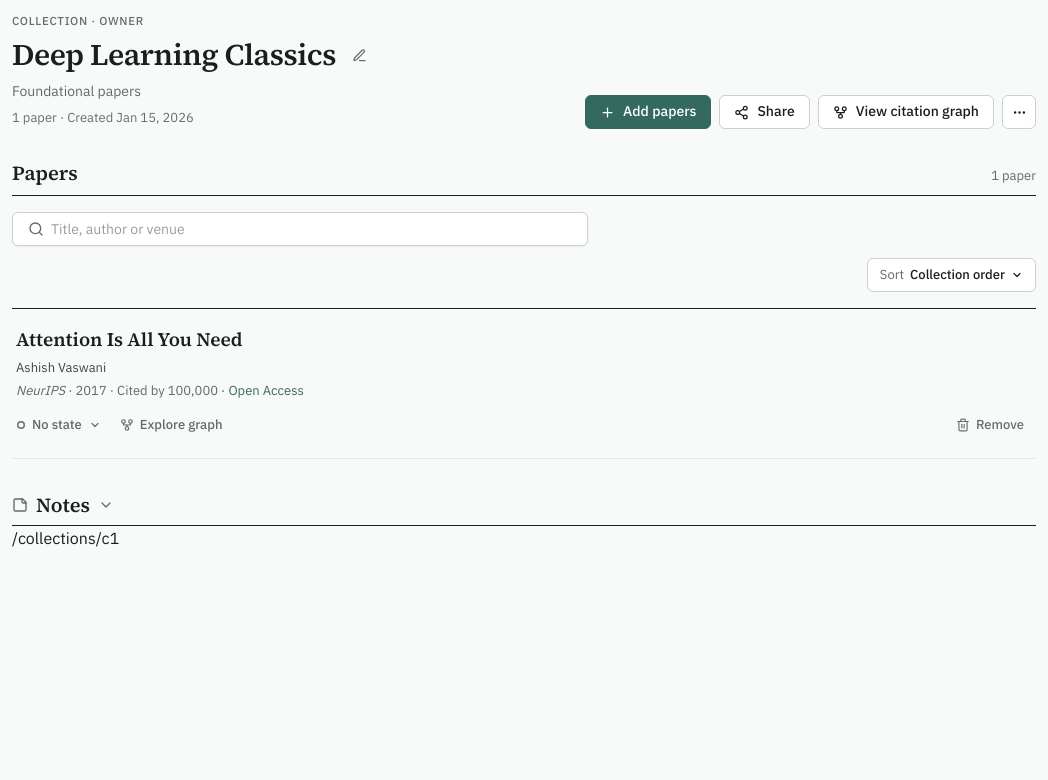
Scenario: CollectionDetailPage › lists the papers as rows under a section heading and folds notes behind a disclosure
The image size is (1048, 780).
Expected: the button "Attention Is All You Need" is shown, [16,327,1032,352]
Expected: the text "Collection" is shown, [12,13,88,28]
Click the button "Notes": (65, 508) [12,491,118,525]
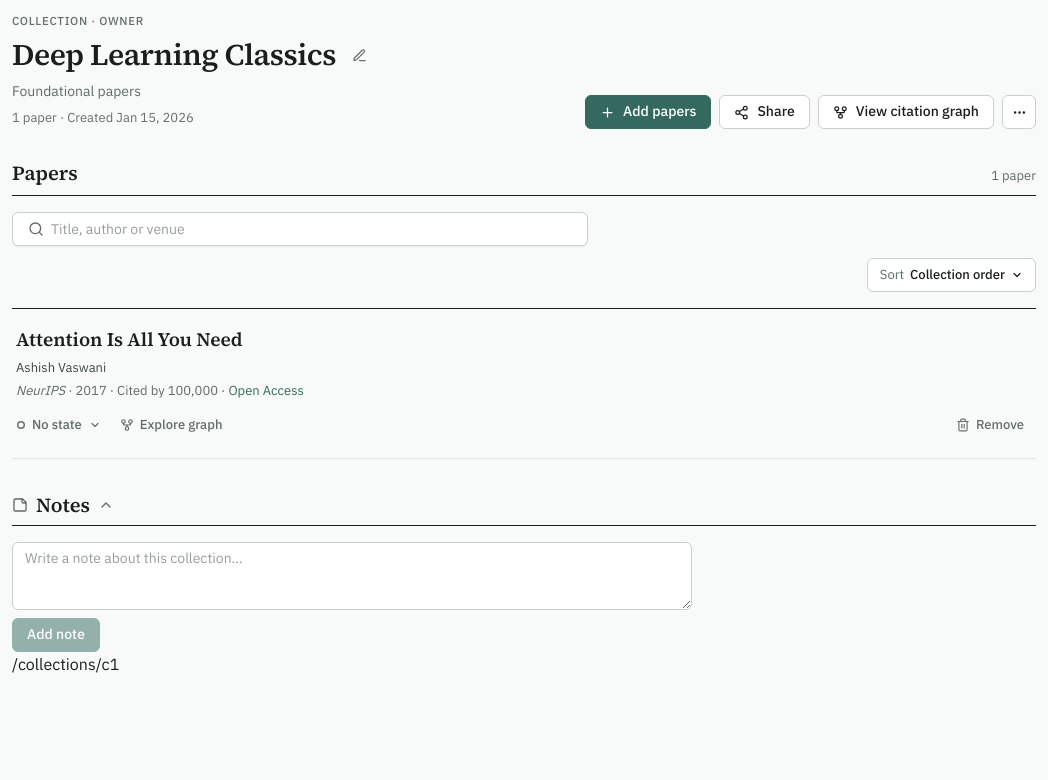
Now the button "Notes" is expanded, box [12,491,118,525]
Now the text box named "Notes" is shown, box [12,542,692,610]
